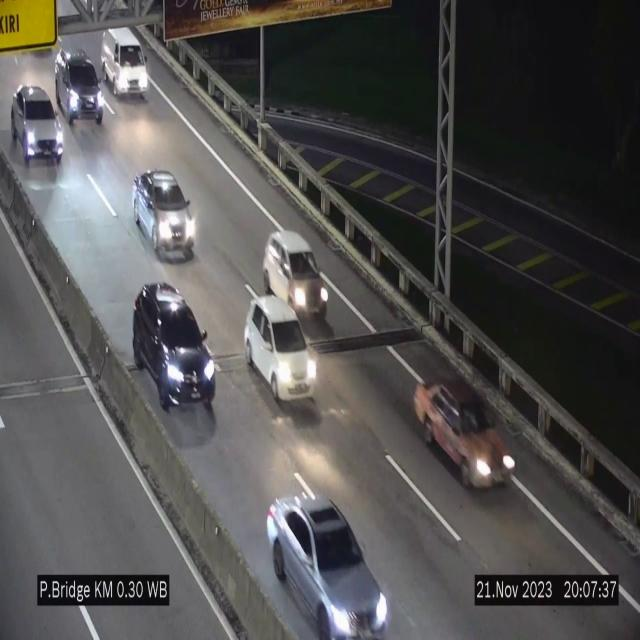Car: (267, 495, 390, 639), (412, 374, 516, 499), (132, 282, 215, 424), (246, 297, 318, 403), (264, 226, 330, 332), (132, 170, 196, 260), (12, 86, 63, 164), (55, 48, 104, 126), (100, 30, 150, 100)
